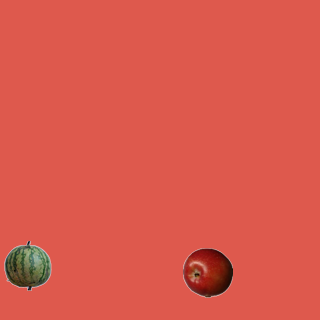Apple Braeburn: (182, 247, 232, 297)
Watermelon: (2, 240, 52, 290)
